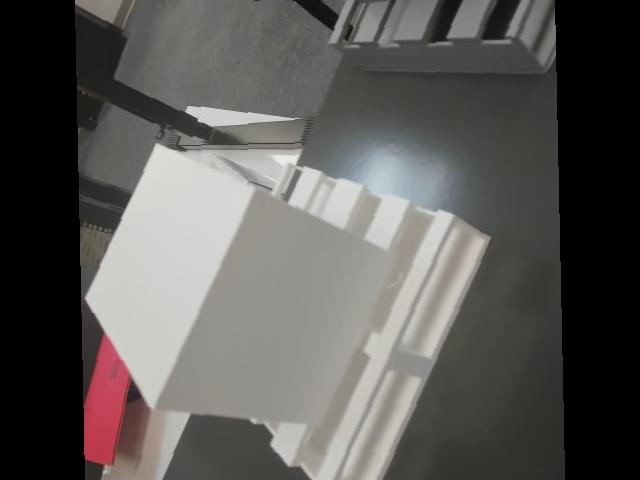grey pallet: (310, 0, 564, 85)
white pallet: (61, 156, 498, 480)
